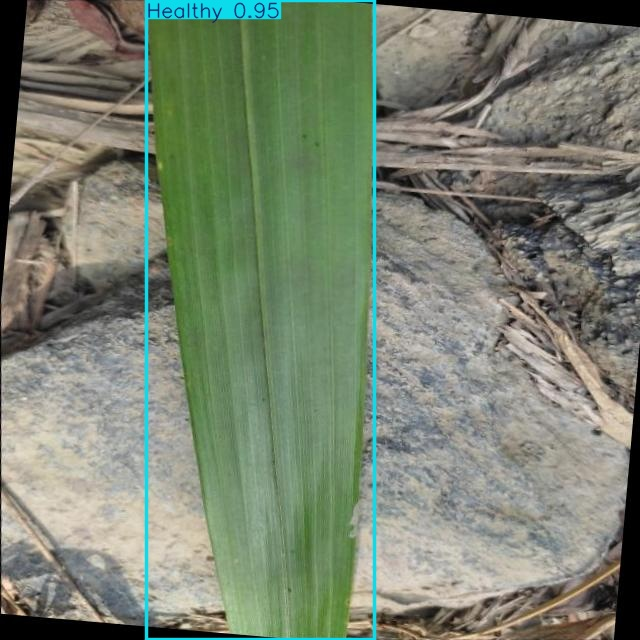Healthy: (146, 0, 375, 640)
